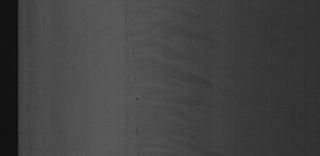inclusion: (128, 29, 136, 69), (134, 125, 142, 153), (132, 76, 140, 104)
water spot: (142, 10, 202, 150)
